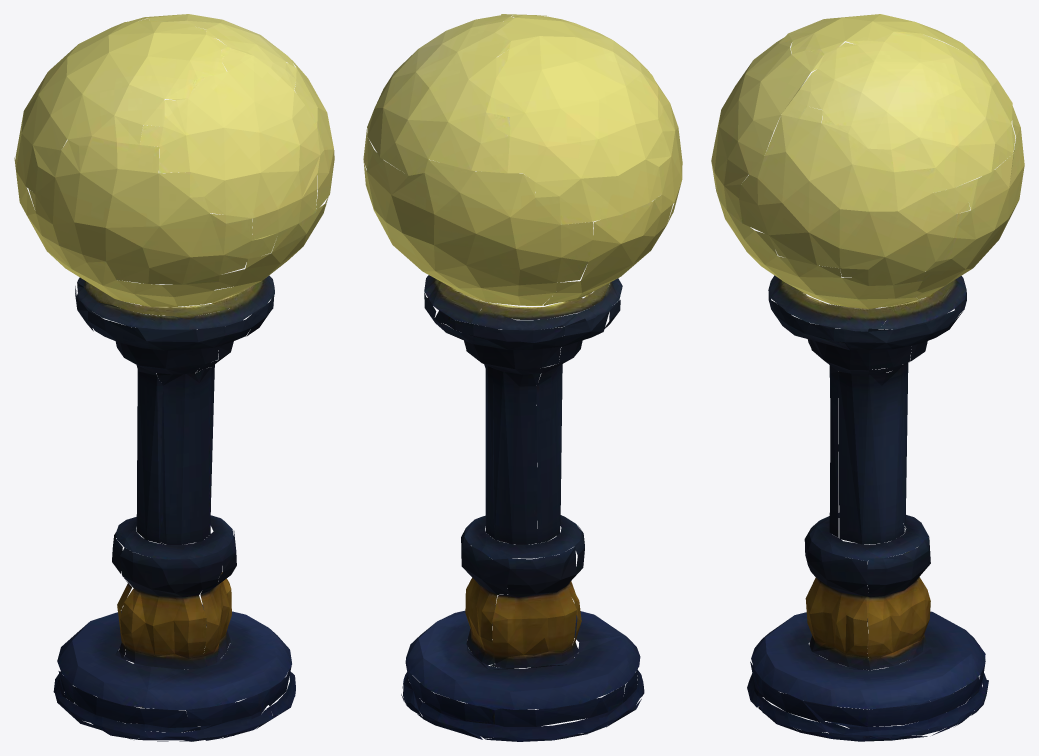
The model's file is light_post.glb.
3 renders of one model, left to right at view 1: azimuth 30°, elevation 25°; view 2: azimuth 150°, elevation 25°; view 3: azimuth 270°, elevation 25°, orthographic.
Parts seen in each view (by area): view 1: geometry_0; view 2: geometry_0; view 3: geometry_0.
Boxes of the visible parts, x1,y1,x2,y2 form: geometry_0: (14, 14, 334, 741); geometry_0: (363, 14, 682, 741); geometry_0: (711, 14, 1024, 741).
Size of the model in its own units: 0.4401 by 1 by 0.4295.
1 material, 1 textured.
